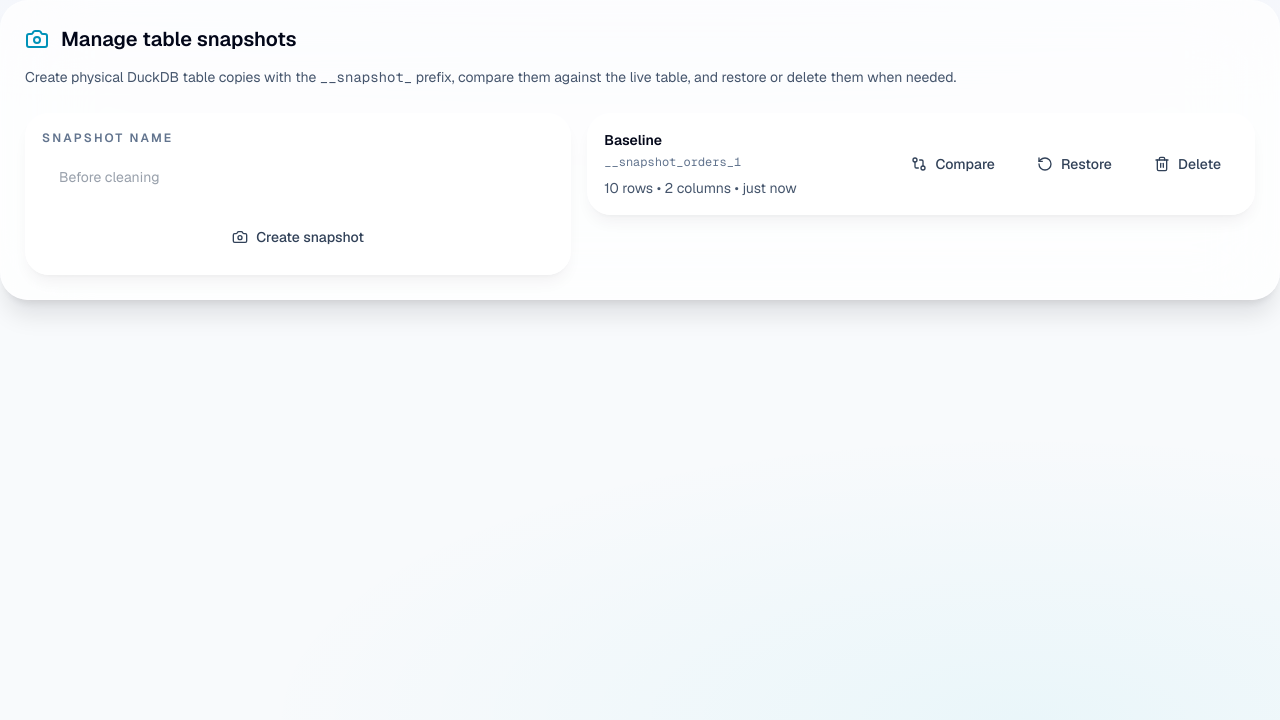
Test: DataSnapshotManager › restores and deletes snapshots
Click the button "Restore".
click(1074, 164)  # box [1020,143,1129,185]
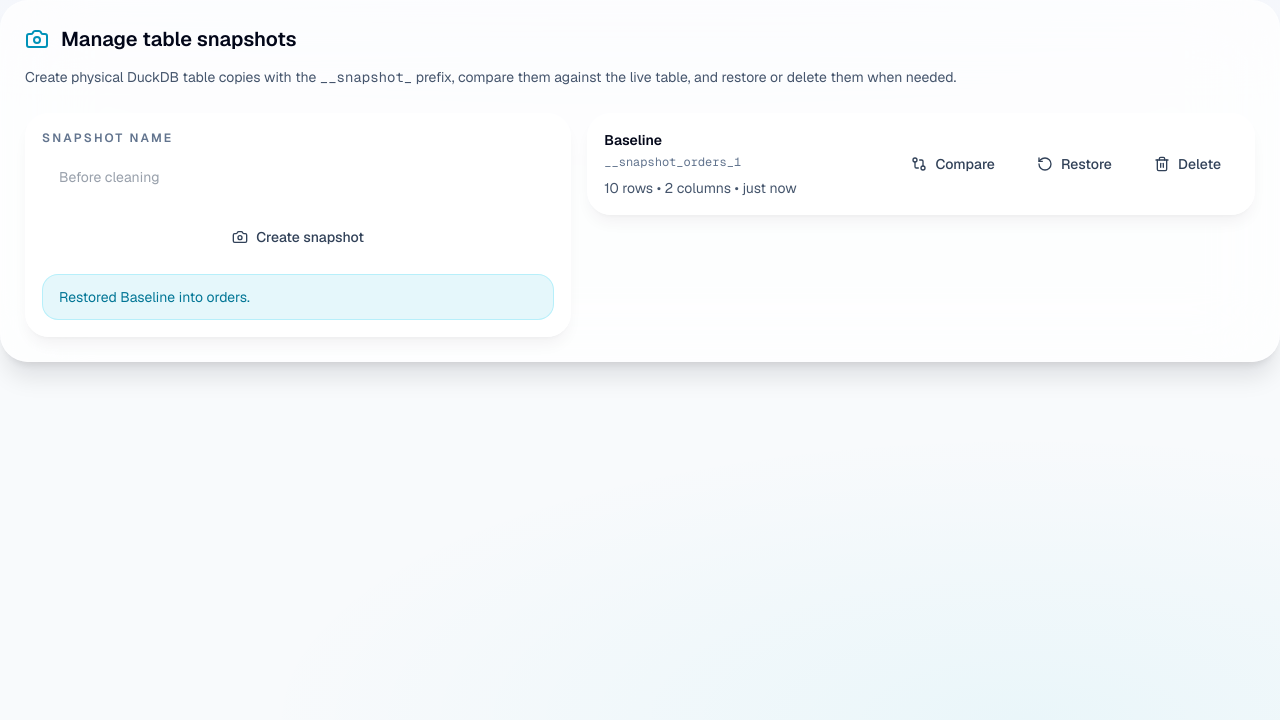
Expected: the text "Restored Baseline into orders." is shown, [42,274,554,320]
Click the button "Delete".
click(1187, 164)  # box [1137,143,1238,185]
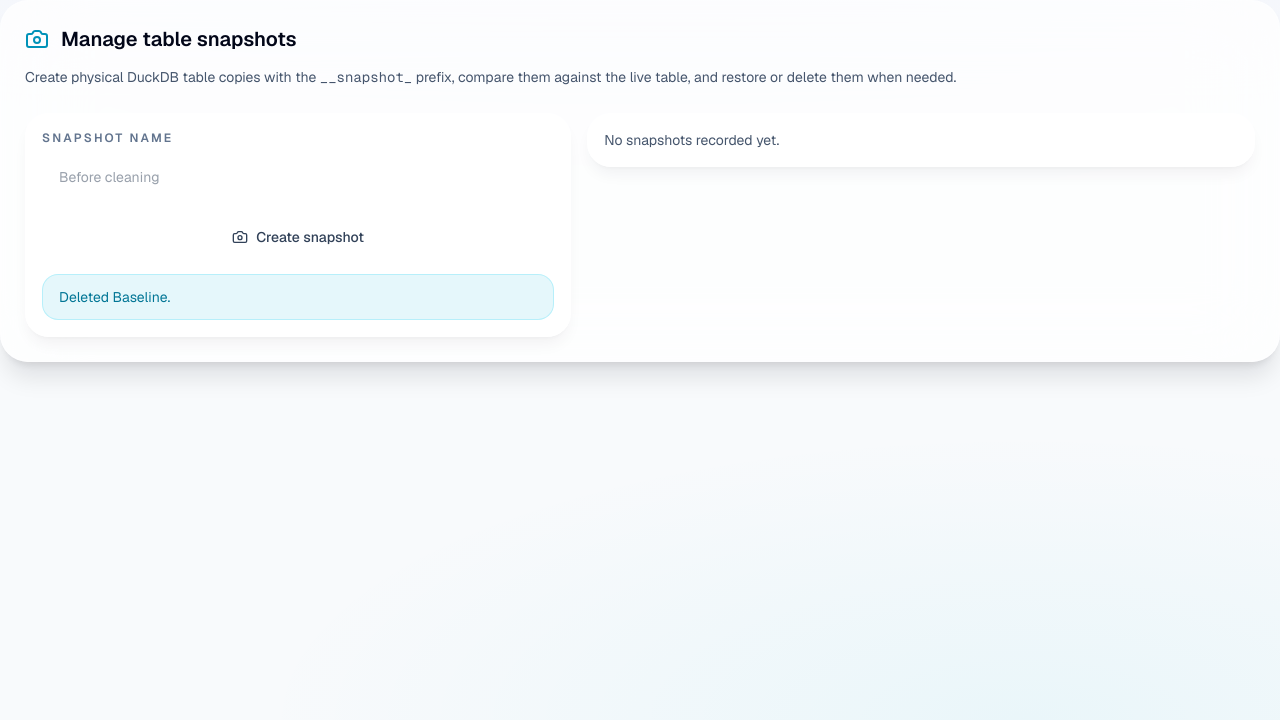
Expected: the text "Deleted Baseline." is shown, [42,274,554,320]
